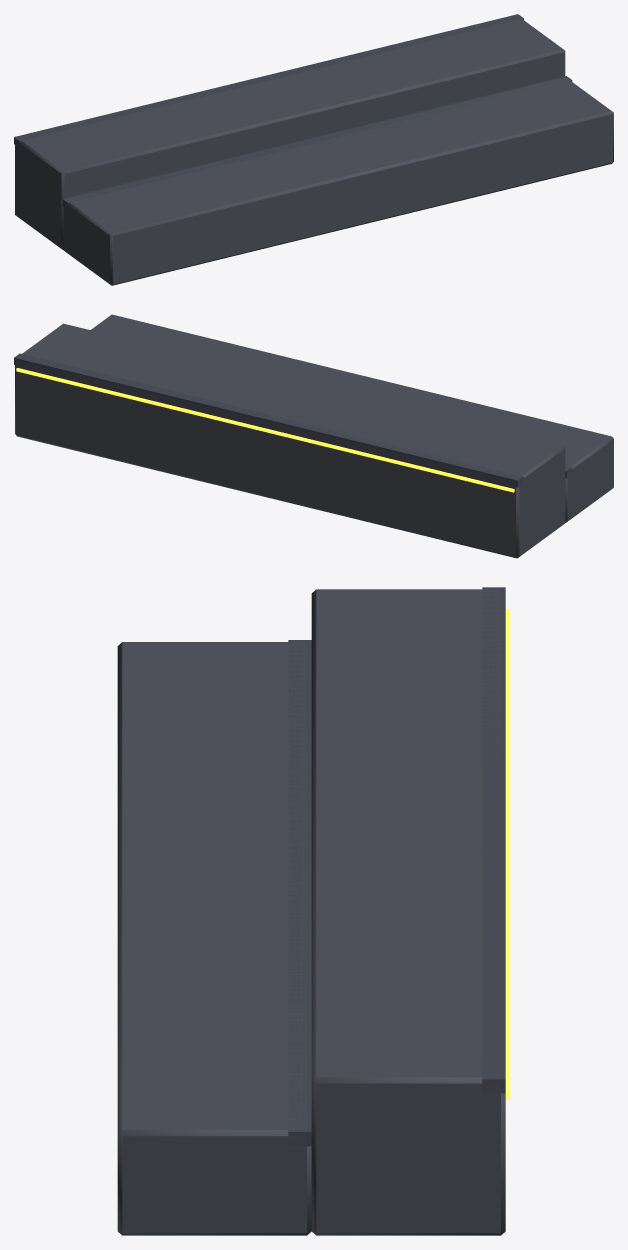
File: steps.glb
3 views of the same model, one above another, from view 1: azimuth 30°, elevation 25°; view 2: azimuth 150°, elevation 25°; view 3: azimuth 270°, elevation 25° (orthographic). The views are drawn at different scales.
Visible parts, largest first — view 1: body; view 2: body; view 3: body.
Boxes of the visible parts, bbox=[...] form: body: bbox=[14, 14, 613, 285]; body: bbox=[14, 314, 613, 558]; body: bbox=[117, 587, 510, 1235].
Bounding box in the file's own units: 3 × 0.45 × 1.01.
